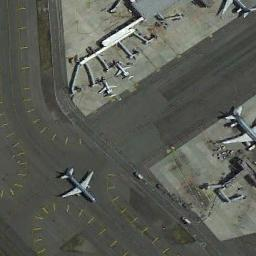Airplane: (54, 166, 100, 206), (221, 104, 256, 152), (214, 0, 256, 21), (112, 59, 134, 80), (97, 78, 116, 94)
